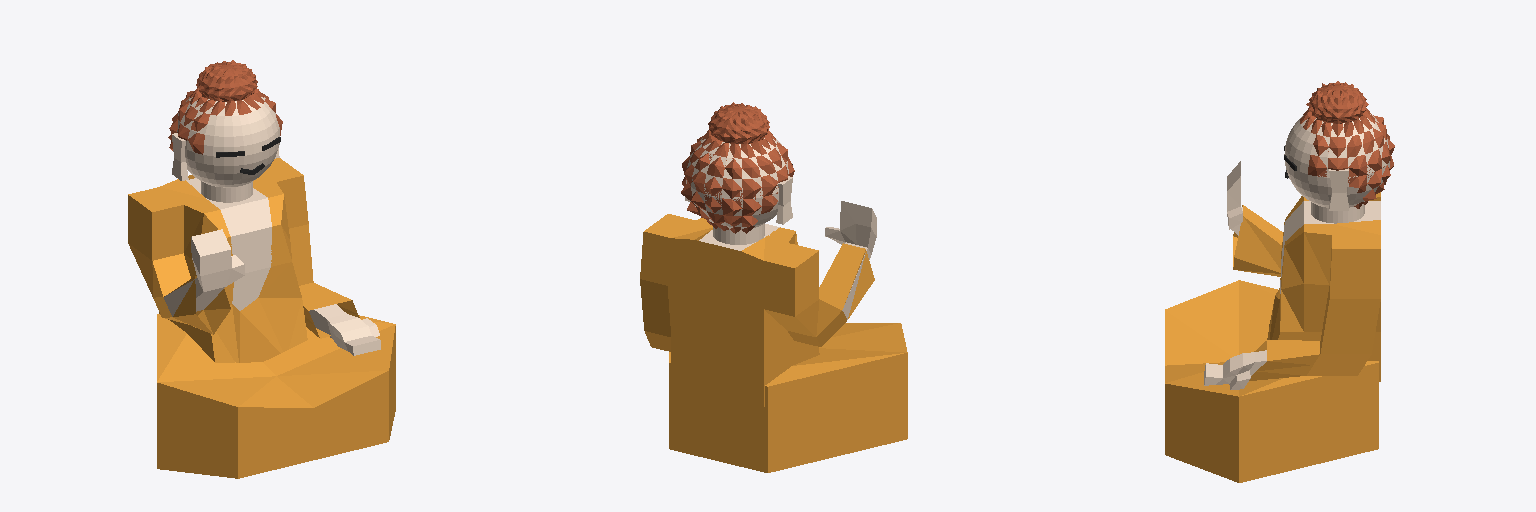
3 views of the same model, side by side, from view 1: azimuth 30°, elevation 25°; view 2: azimuth 150°, elevation 25°; view 3: azimuth 270°, elevation 25° (orthographic).
Visible parts, largest first — view 1: 立方体.005; view 2: 立方体.005; view 3: 立方体.005.
Part boxes in pixels (left/top/right/bottom): 立方体.005: left=128, top=60, right=395, bottom=478; 立方体.005: left=640, top=102, right=907, bottom=472; 立方体.005: left=1165, top=81, right=1394, bottom=482.
Size of the model in its own units: 5.15 by 6.97 by 4.31.
1 materials, 1 textured.